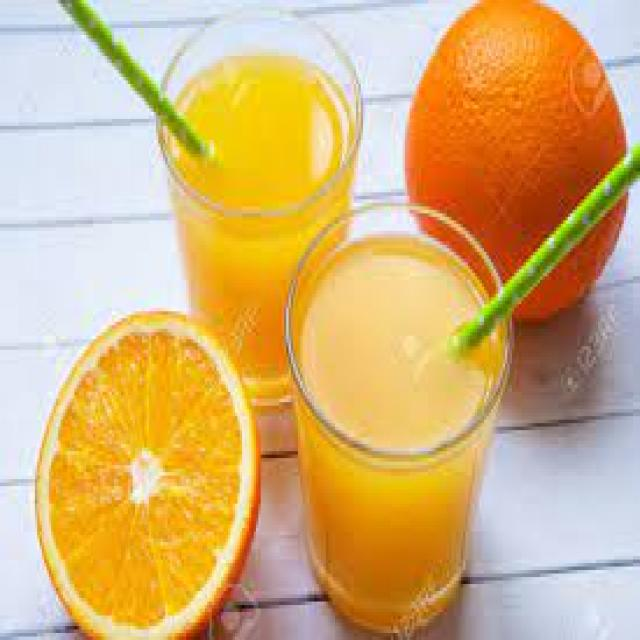orange: (26, 301, 263, 640), (403, 4, 635, 325)
